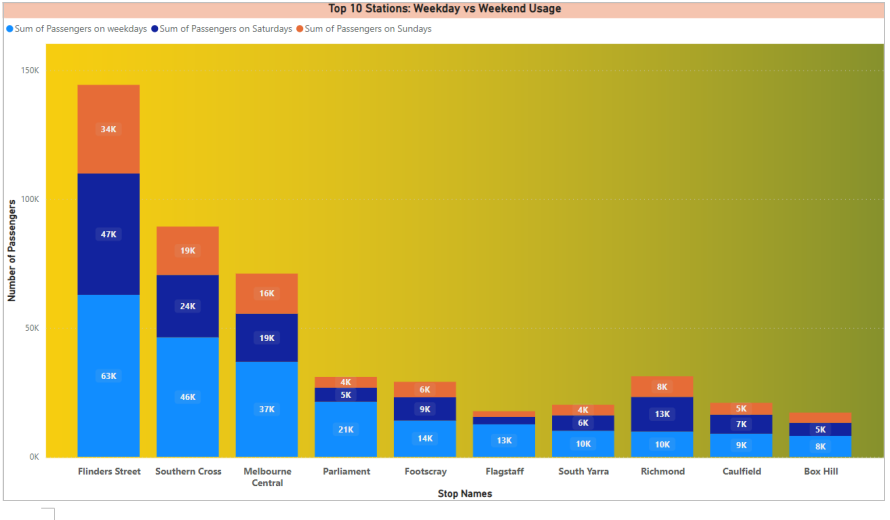

The page's visual inventory and layout, read from the dashboard file:
{"tool":"powerbi","page":{"name":"Page 3","canvas":[1280,720],"ordinal":2},"visuals":[{"type":"columnChart","title":"Top 10 Stations: Weekday vs Weekend Usage","fields":{"Category":["Annual_Metropolitan_Train_Station_Entries_2023-24.Stop_name"],"Y":["Sum(Annual_Metropolitan_Train_Station_Entries_2023-24.Pax_weekday)","Sum(Annual_Metropolitan_Train_Station_Entries_2023-24.Pax_Saturday)","Sum(Annual_Metropolitan_Train_Station_Entries_2023-24.Pax_Sunday)"]},"box":[9.7,0,1270.3,719.8],"z":0}]}

Visuals, with their boxes on the page's 1280x720 design canvas (x1, y1, x2, y2). These are canvas units, not pixel positions in the 890x520 screenshot, which may show the page scaled, cropped or inside an application window:
"Top 10 Stations: Weekday vs Weekend Usage" columnChart: box(10, 0, 1280, 720)
